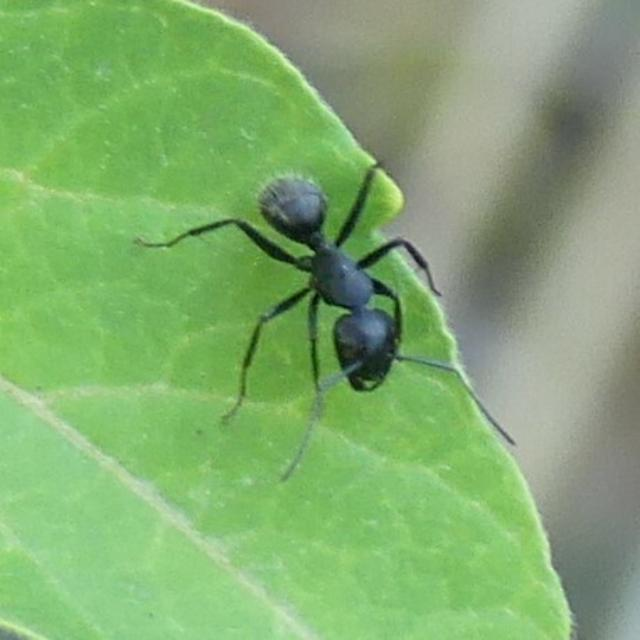Camponotus: (202, 152, 442, 410)
